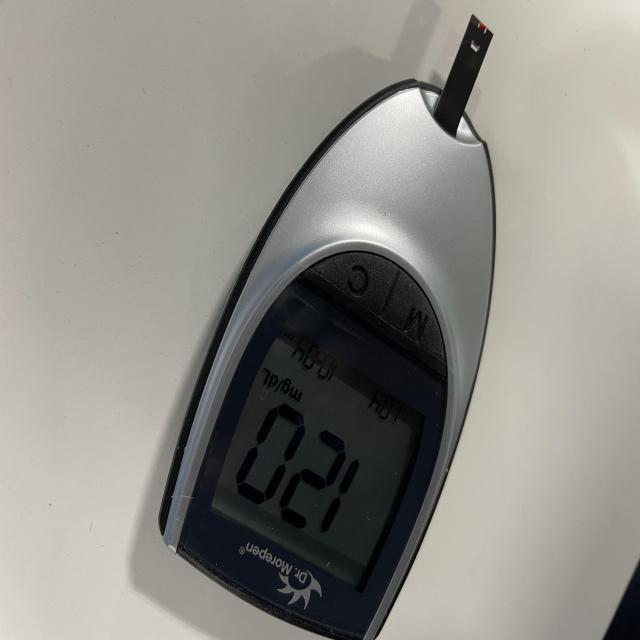gluco: (157, 23, 498, 640)
